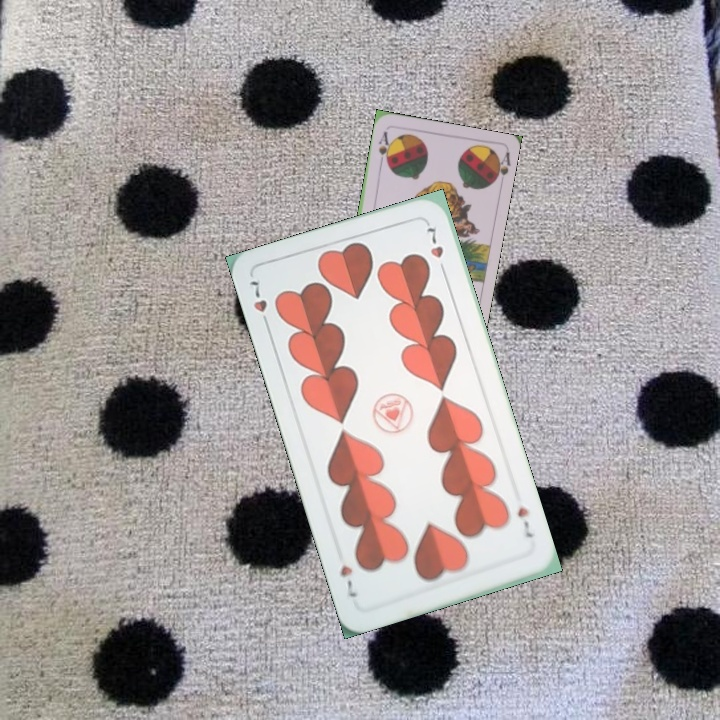H7: (246, 276, 272, 332), (513, 503, 536, 541)
SA: (375, 127, 394, 168)
